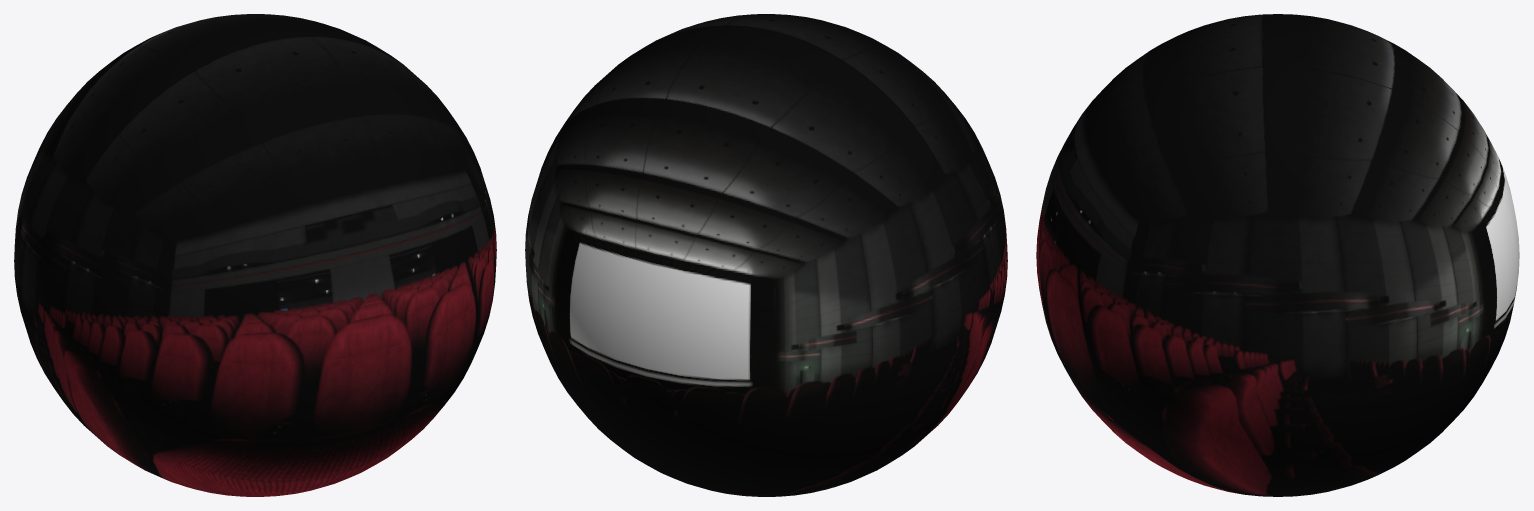
The model's file is theater_background.obj.
3 views of the same model, side by side, from view 1: azimuth 30°, elevation 25°; view 2: azimuth 150°, elevation 25°; view 3: azimuth 270°, elevation 25° (orthographic).
Size of the model in its own units: 20 by 20 by 20.
1 material, 1 textured.
